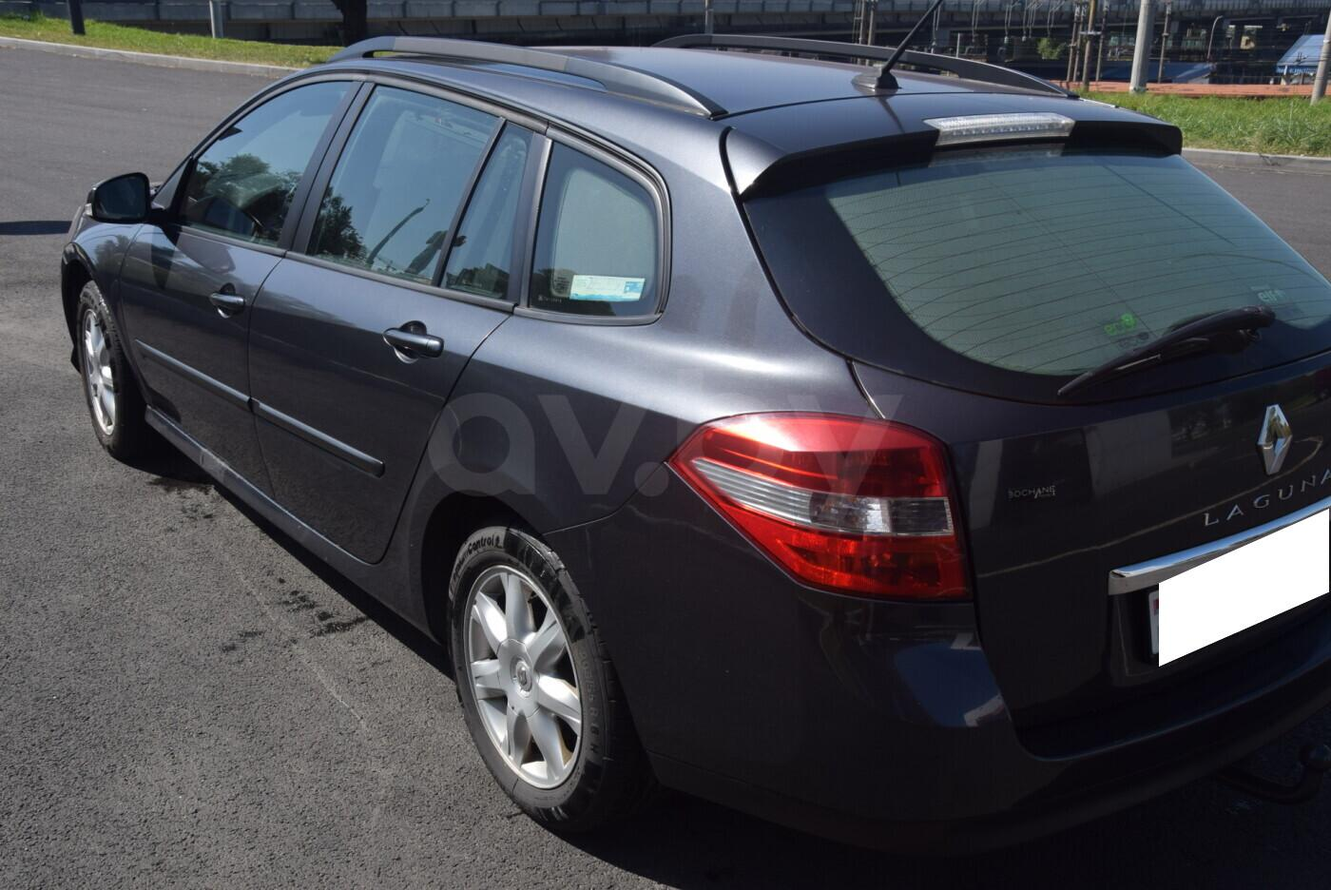Laguna_2007-2011: (51, 35, 1330, 854)
